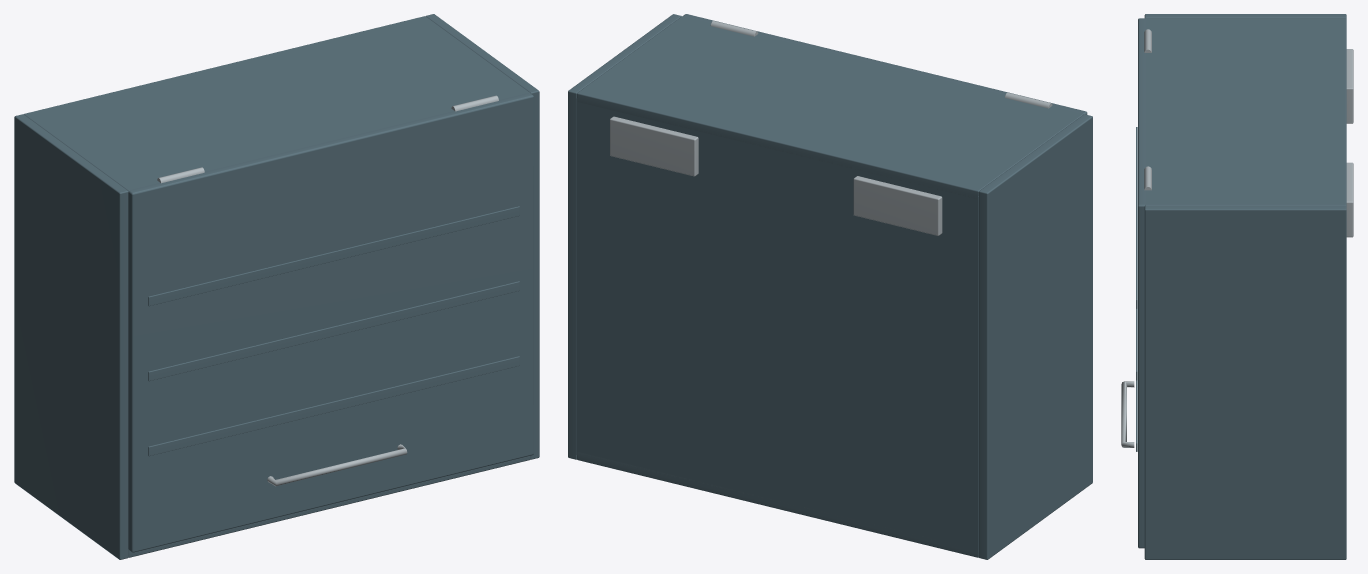
File: garage-wall-cabinet.glb
3 views of the same model, side by side, from view 1: azimuth 30°, elevation 25°; view 2: azimuth 150°, elevation 25°; view 3: azimuth 270°, elevation 25° (orthographic). The views are drawn at different scales.
Parts seen in each view (by area): view 1: catalog_surface_RealismUV; view 2: catalog_surface_RealismUV; view 3: catalog_surface_RealismUV.
Boxes of the visible parts, <box> form: catalog_surface_RealismUV: <box>14,14,539,559</box>; catalog_surface_RealismUV: <box>568,14,1092,559</box>; catalog_surface_RealismUV: <box>1121,14,1353,559</box>.
Bounding box in the file's own units: 0.711 × 0.6 × 0.356.
